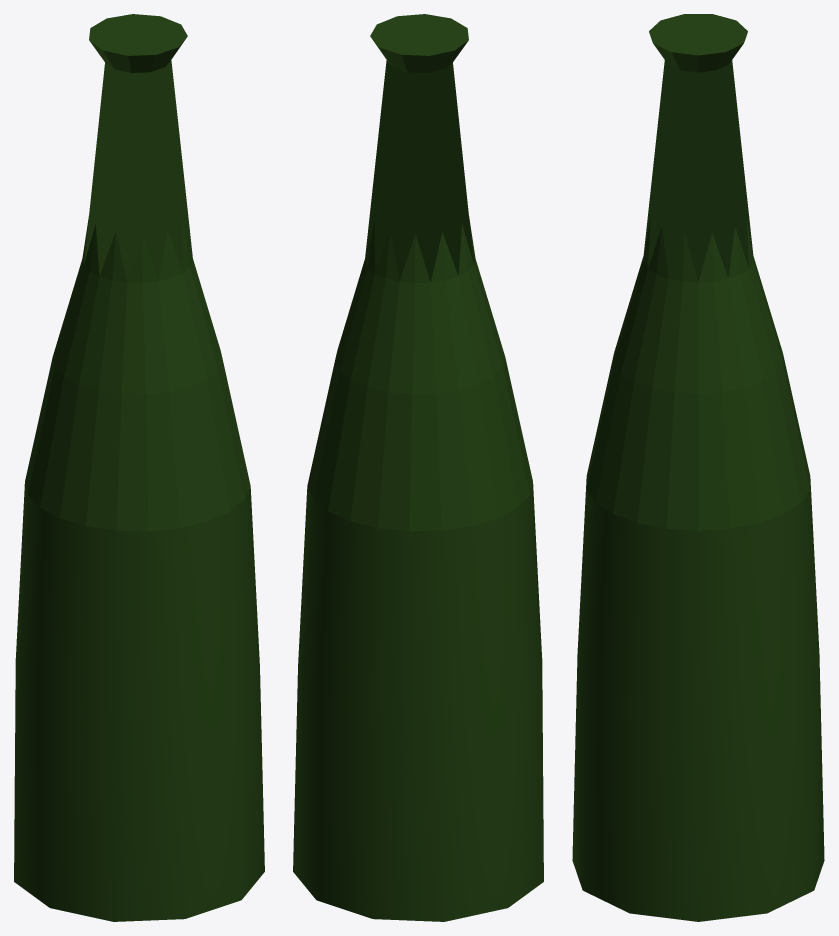
Rendered from bottle.FBX.
The picture shows the model from 3 angles, left to right: view 1: azimuth 30°, elevation 25°; view 2: azimuth 150°, elevation 25°; view 3: azimuth 270°, elevation 25°; orthographic projection.
Visible parts, largest first — view 1: Cylinder006; view 2: Cylinder006; view 3: Cylinder006.
Boxes of the visible parts, x1,y1,x2,y2 form: Cylinder006: (14,14,264,921); Cylinder006: (293,14,543,921); Cylinder006: (572,14,824,921).
Bounding box in the file's own units: 26.99 × 99.55 × 27.27.
